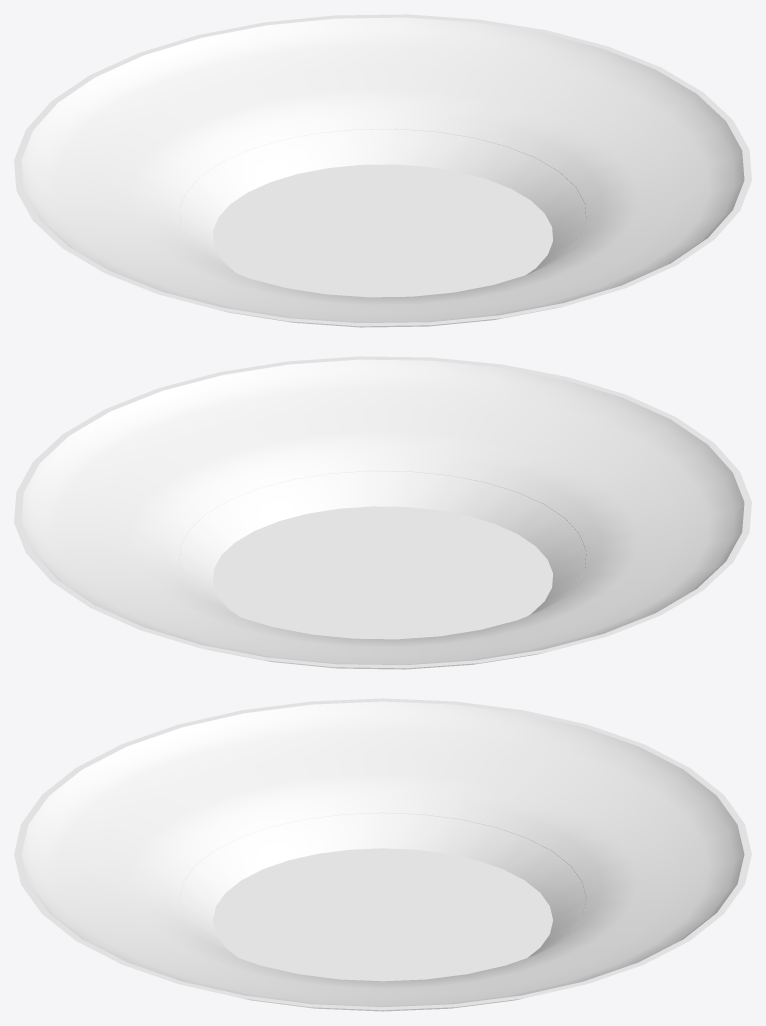
File: Saucer 2.fbx
The picture shows the model from 3 angles, top to bottom: view 1: azimuth 30°, elevation 25°; view 2: azimuth 150°, elevation 25°; view 3: azimuth 270°, elevation 25°; orthographic projection.
Visible parts, largest first — view 1: Saucer 2; view 2: Saucer 2; view 3: Saucer 2.
Boxes of the visible parts, x1,y1,x2,y2 form: Saucer 2: (14,14,751,327); Saucer 2: (14,356,751,669); Saucer 2: (14,698,751,1011).
Size of the model in its own units: 9.9 by 0.981 by 9.9.
Materials: 1 (1 with a texture image).
